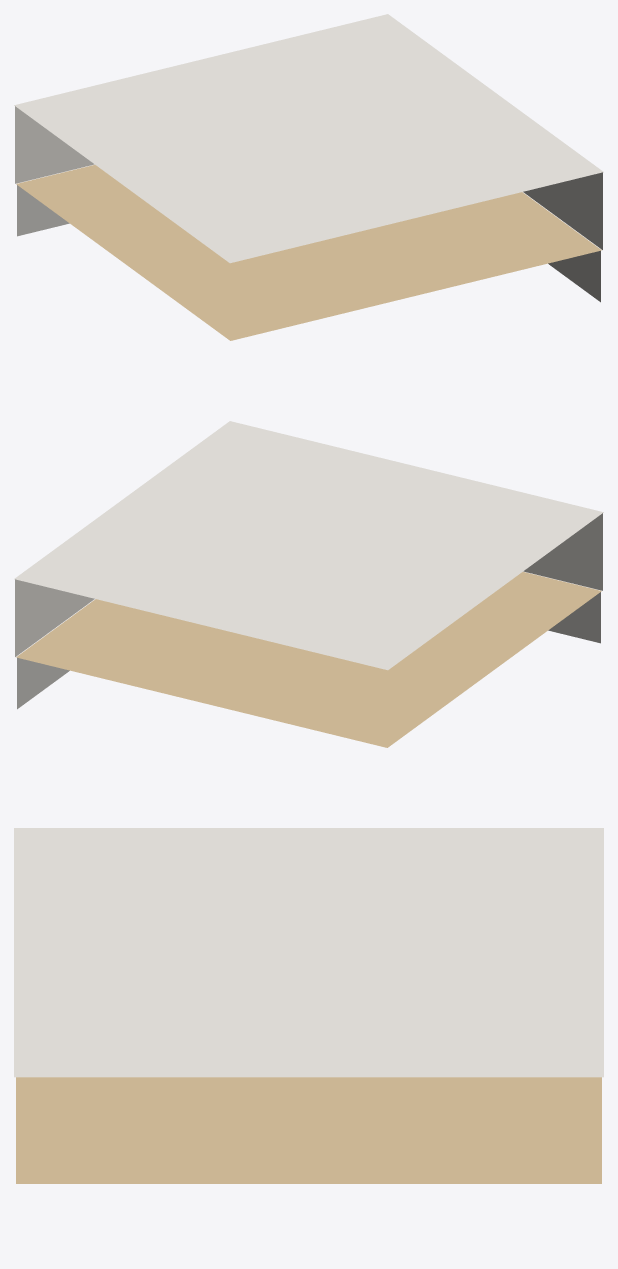
The model's file is decorative-concrete.glb.
3 views of the same model, one above another, from view 1: azimuth 30°, elevation 25°; view 2: azimuth 150°, elevation 25°; view 3: azimuth 270°, elevation 25° (orthographic). The views are drawn at different scales.
Parts seen in each view (by area): view 1: topcoat, primer, body, substrate; view 2: topcoat, primer, body, substrate; view 3: topcoat, primer.
Boxes of the visible parts, box(x1,y1,x2,y2) form: topcoat: box(14, 14, 603, 263); primer: box(16, 165, 601, 340); body: box(15, 106, 602, 249); substrate: box(17, 185, 600, 302); topcoat: box(14, 421, 603, 670); primer: box(16, 572, 601, 747); body: box(15, 513, 602, 656); substrate: box(17, 592, 600, 709); topcoat: box(14, 828, 603, 1077); primer: box(16, 1077, 601, 1183).
Bounding box in the file's own units: 0.3 × 0.1003 × 0.3.
